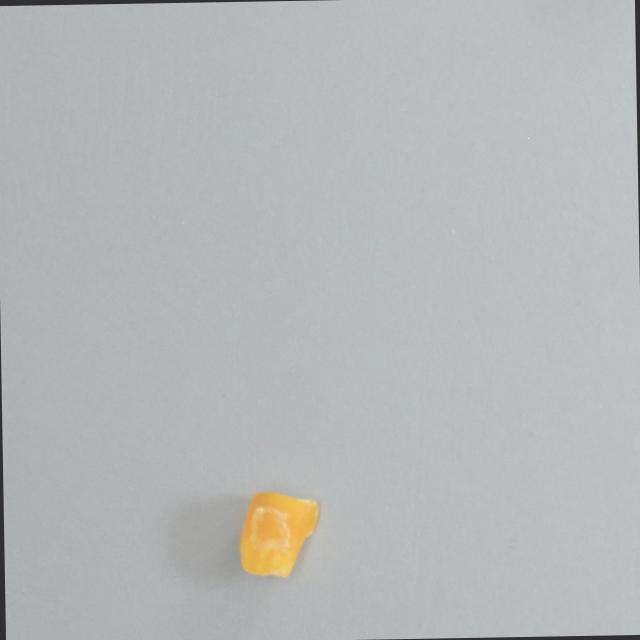pelicula: (234, 489, 318, 578)
